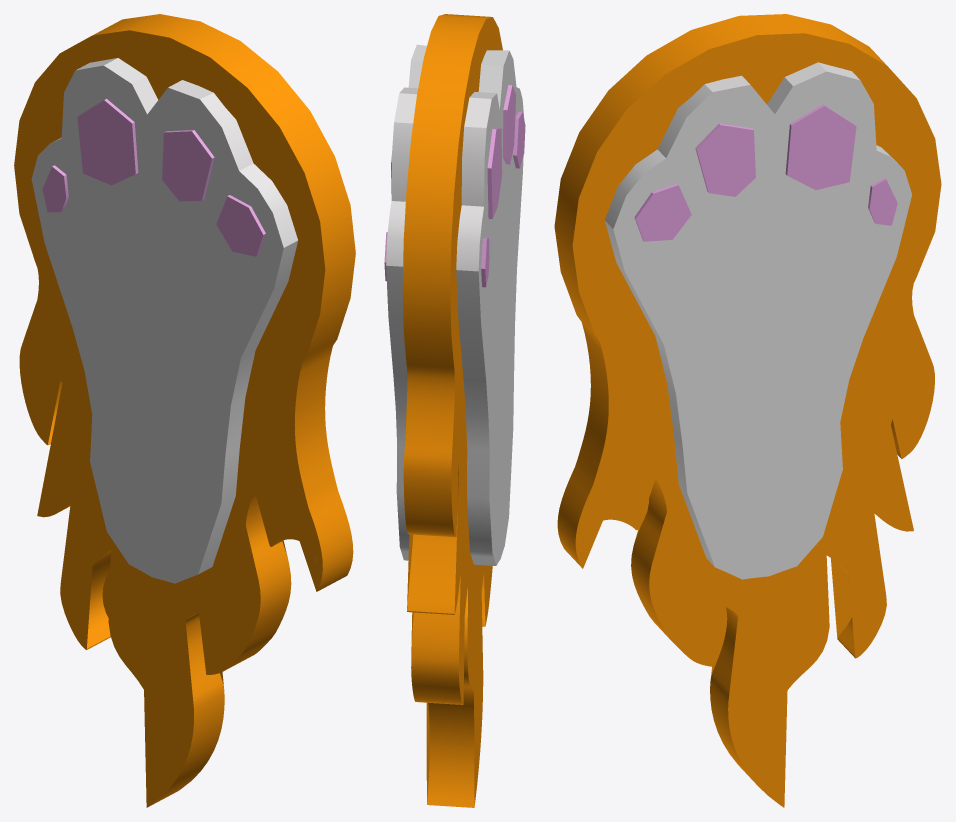
Rendered from Rage.fbx.
3 views of the same model, side by side, from view 1: azimuth 30°, elevation 25°; view 2: azimuth 150°, elevation 25°; view 3: azimuth 270°, elevation 25° (orthographic). The views are drawn at different scales.
Visible parts, largest first — view 1: Plane.005; view 2: Plane.005; view 3: Plane.005.
Boxes of the visible parts, x1=… form: Plane.005: x1=14, y1=14, x2=355, y2=807; Plane.005: x1=384, y1=14, x2=525, y2=807; Plane.005: x1=554, y1=14, x2=941, y2=807.
Bounding box in the file's own units: 59.2 × 245 × 111.
